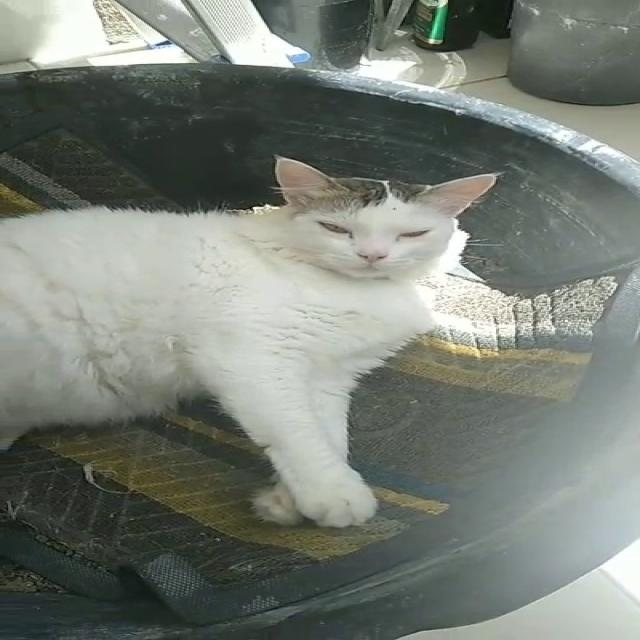Simba: (4, 117, 544, 575)
